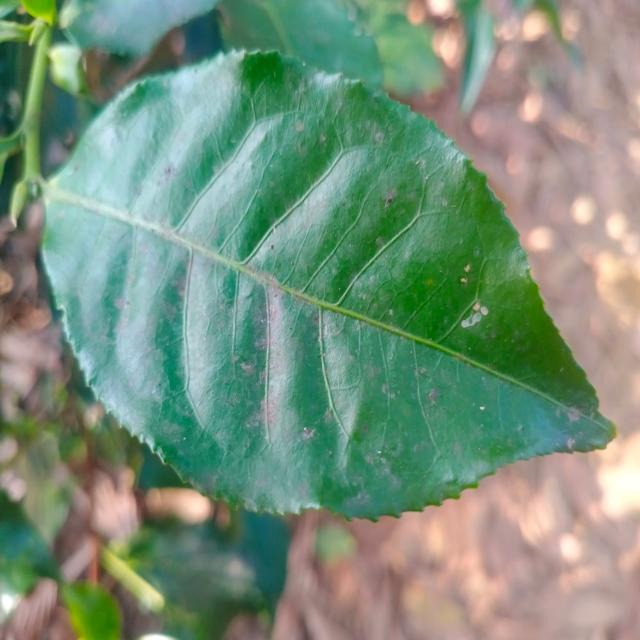Category D(7+ days, Not for Tea): (14, 41, 624, 522)
